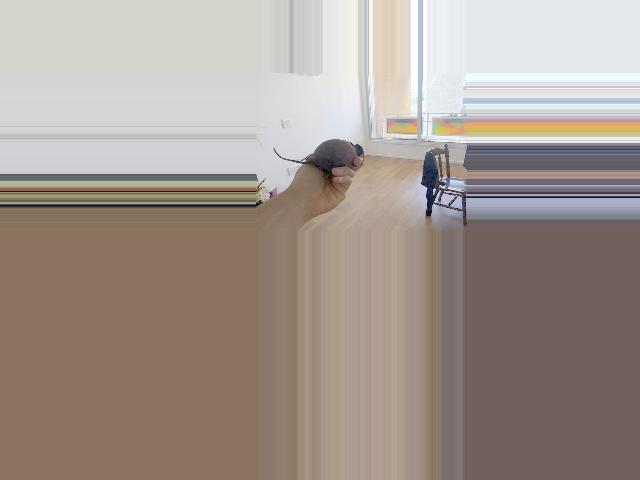beet: (274, 139, 365, 169)
